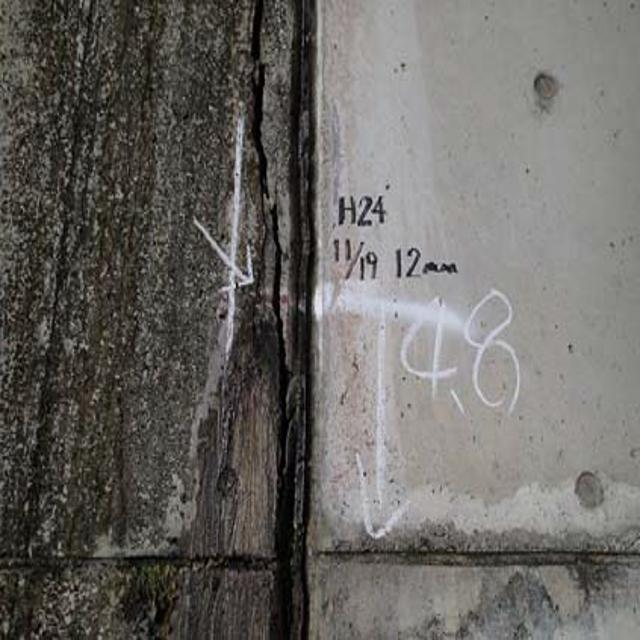crack: (237, 18, 299, 363)
